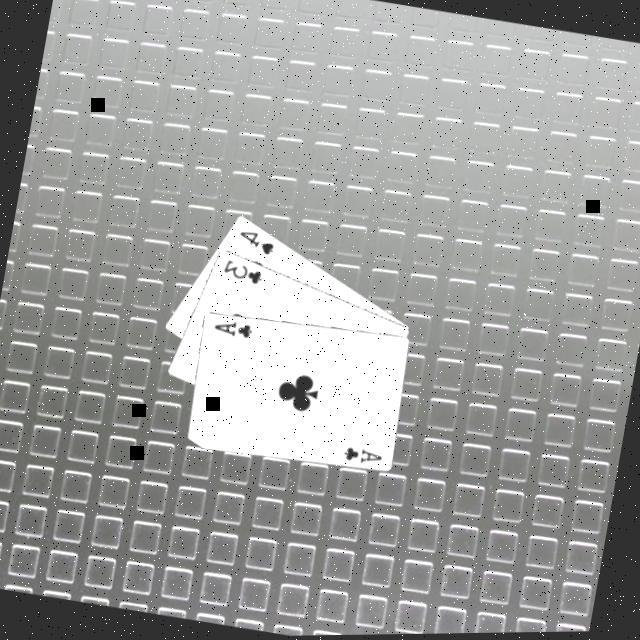3C: (219, 253, 268, 287)
4S: (234, 224, 280, 258)
AC: (339, 440, 387, 469), (211, 312, 257, 341)
